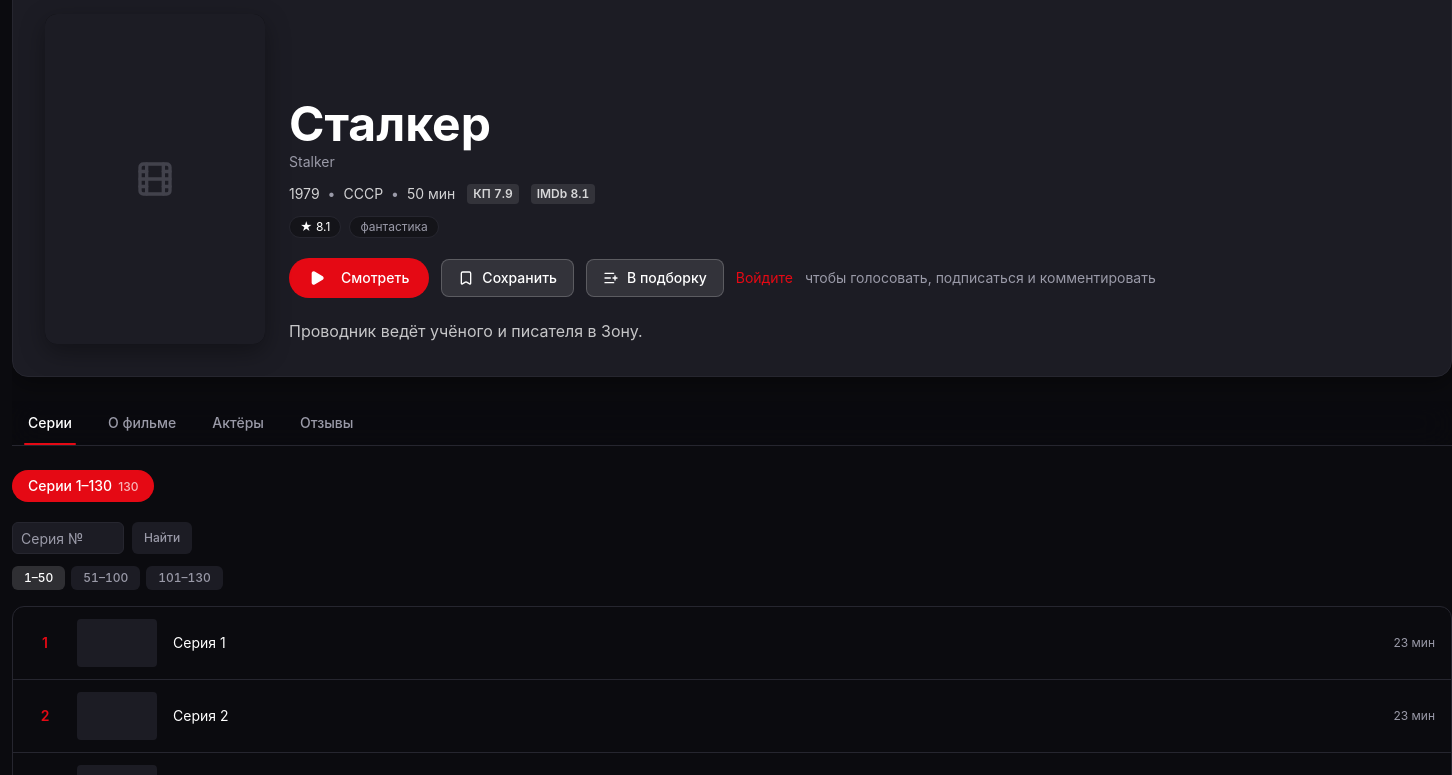
ItemDetailView — длинный сезон › «Серия №» открывает нужный диапазон и подсвечивает серию
The width and height of the screenshot is (1452, 775).
Check: the element with test id "episode-ranges" is shown, box left=12, top=566, right=223, bottom=590
Type "120" into the number field with placeholder "Серия №" at (68, 538), box left=12, top=522, right=124, bottom=554
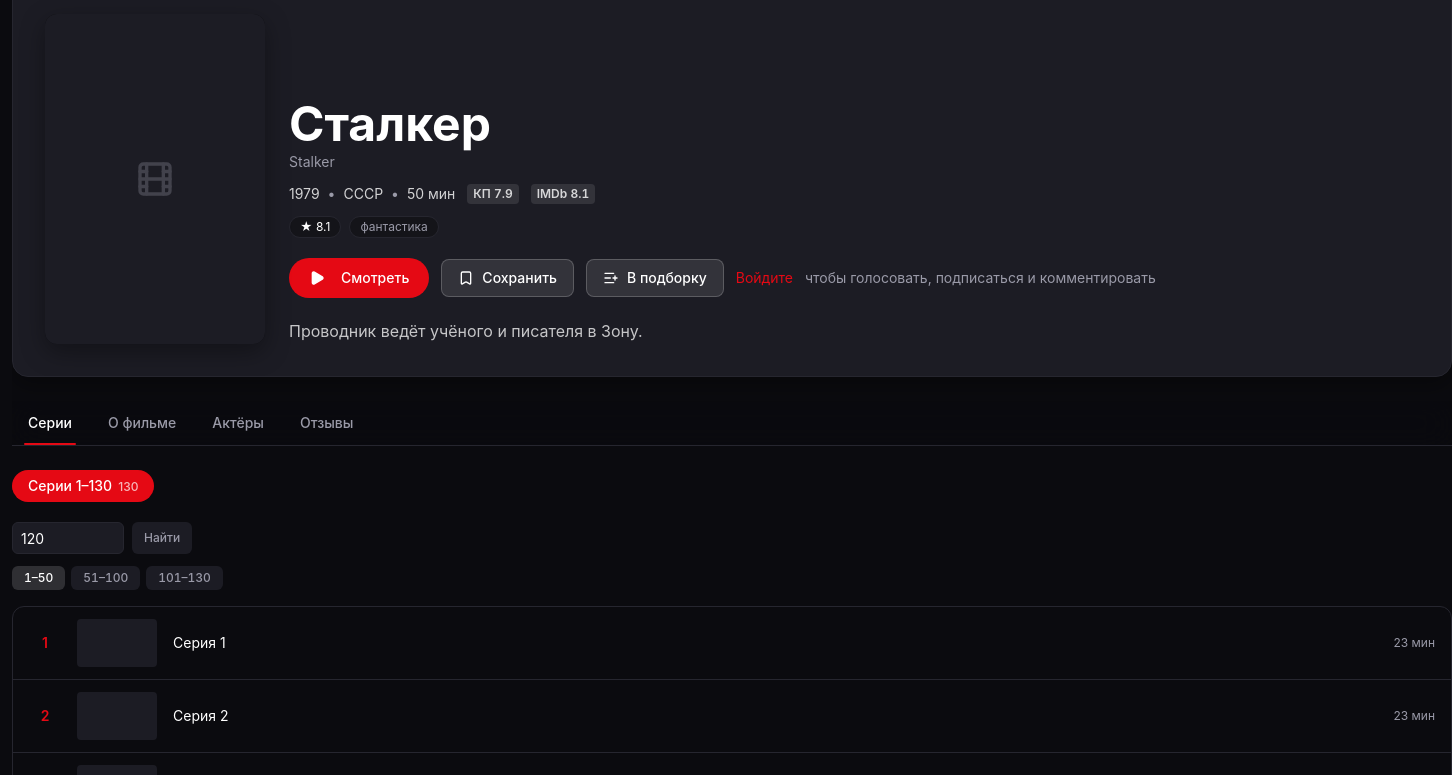
Submit the form with test id "episode-jump", box left=12, top=522, right=192, bottom=554
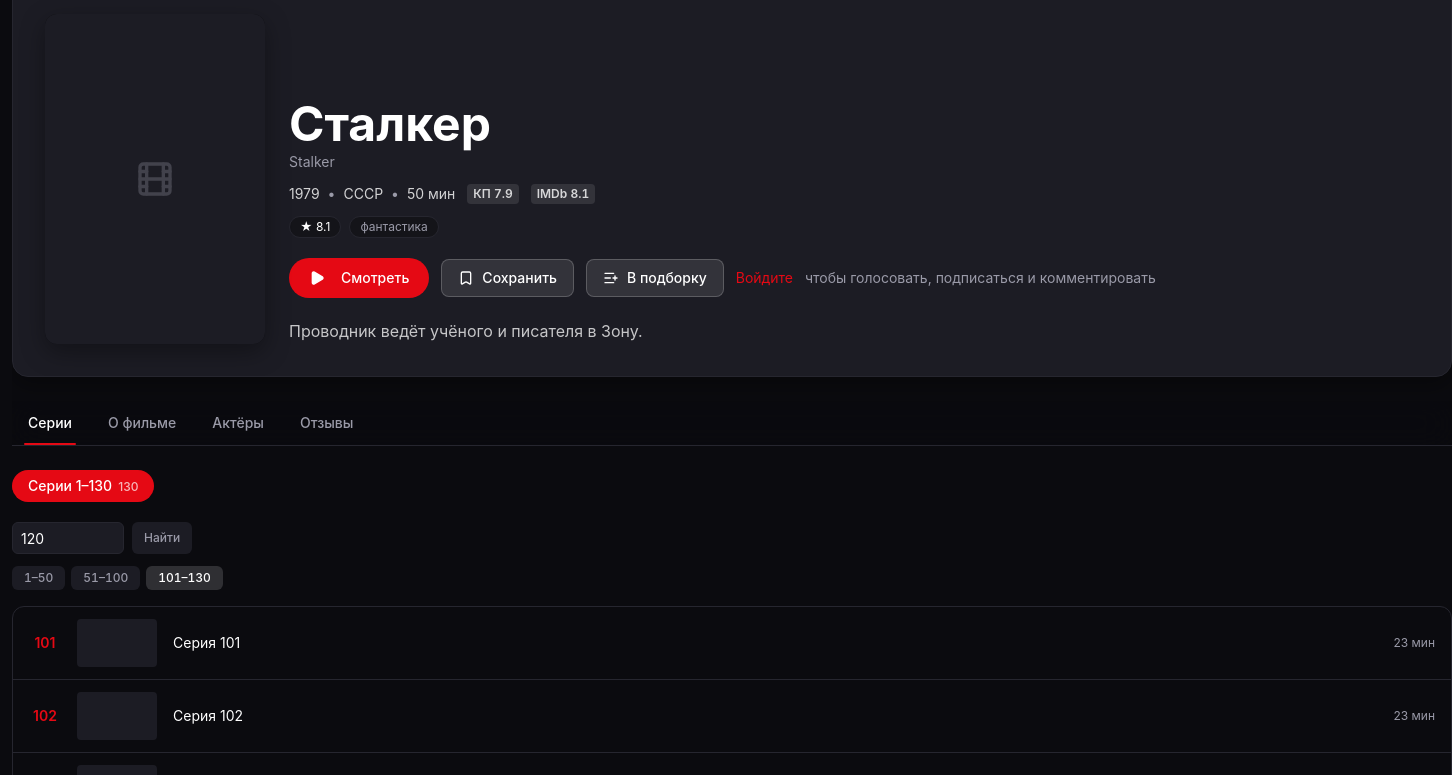
Replace the text in the number field named "Перейти к серии по номеру" with "999" at (68, 538), box left=12, top=522, right=124, bottom=554
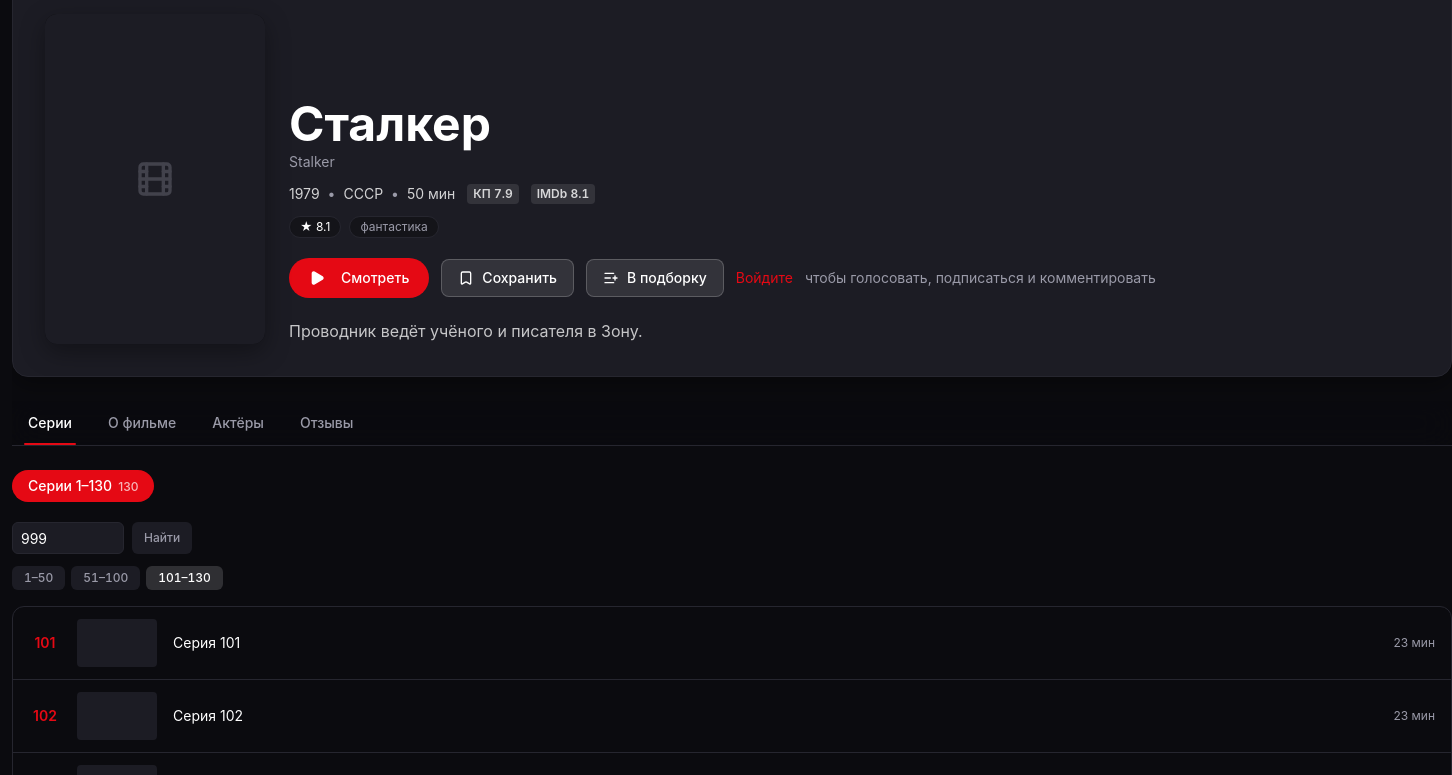
Submit the form with test id "episode-jump", box left=12, top=522, right=192, bottom=554
(page scrolled)
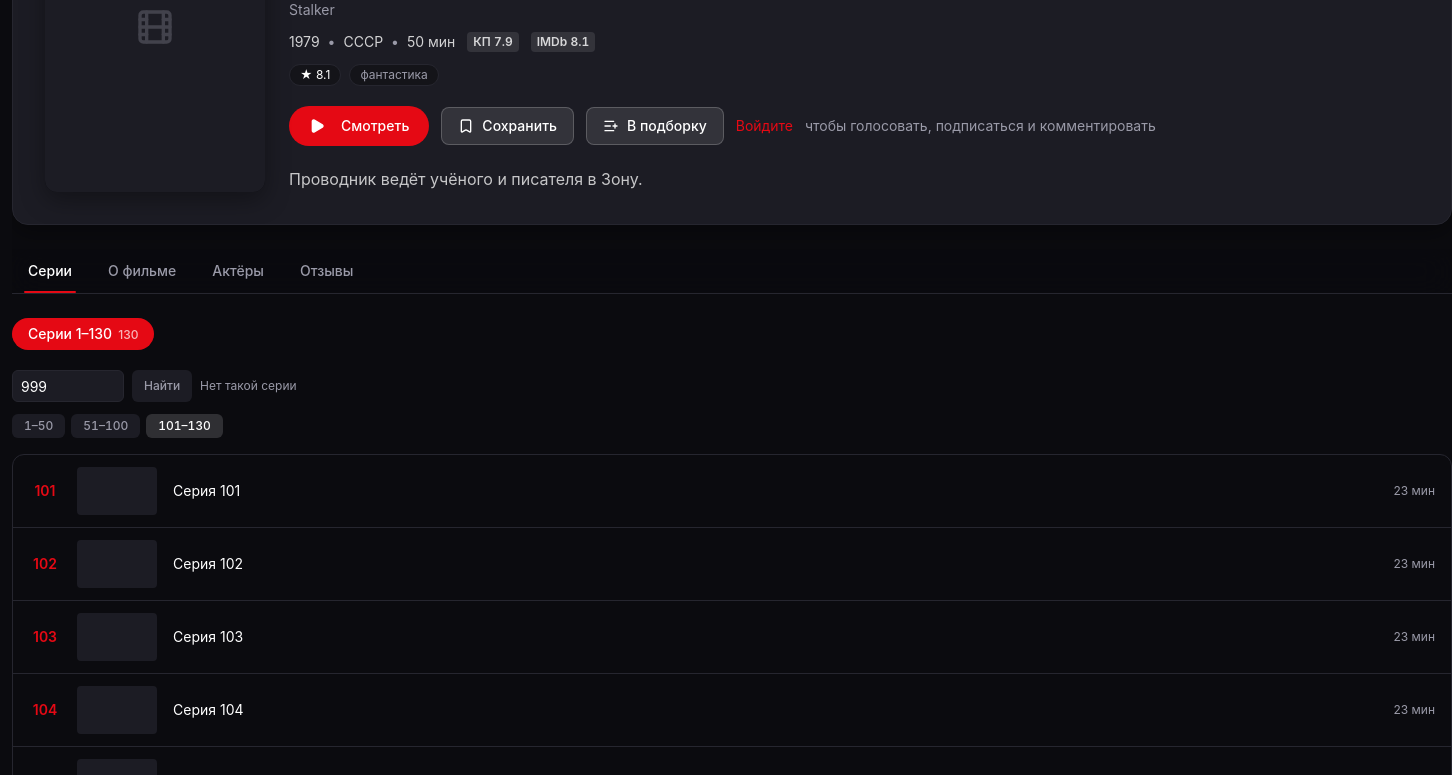
Check: the text "Нет такой серии" is shown, box left=200, top=378, right=297, bottom=394
